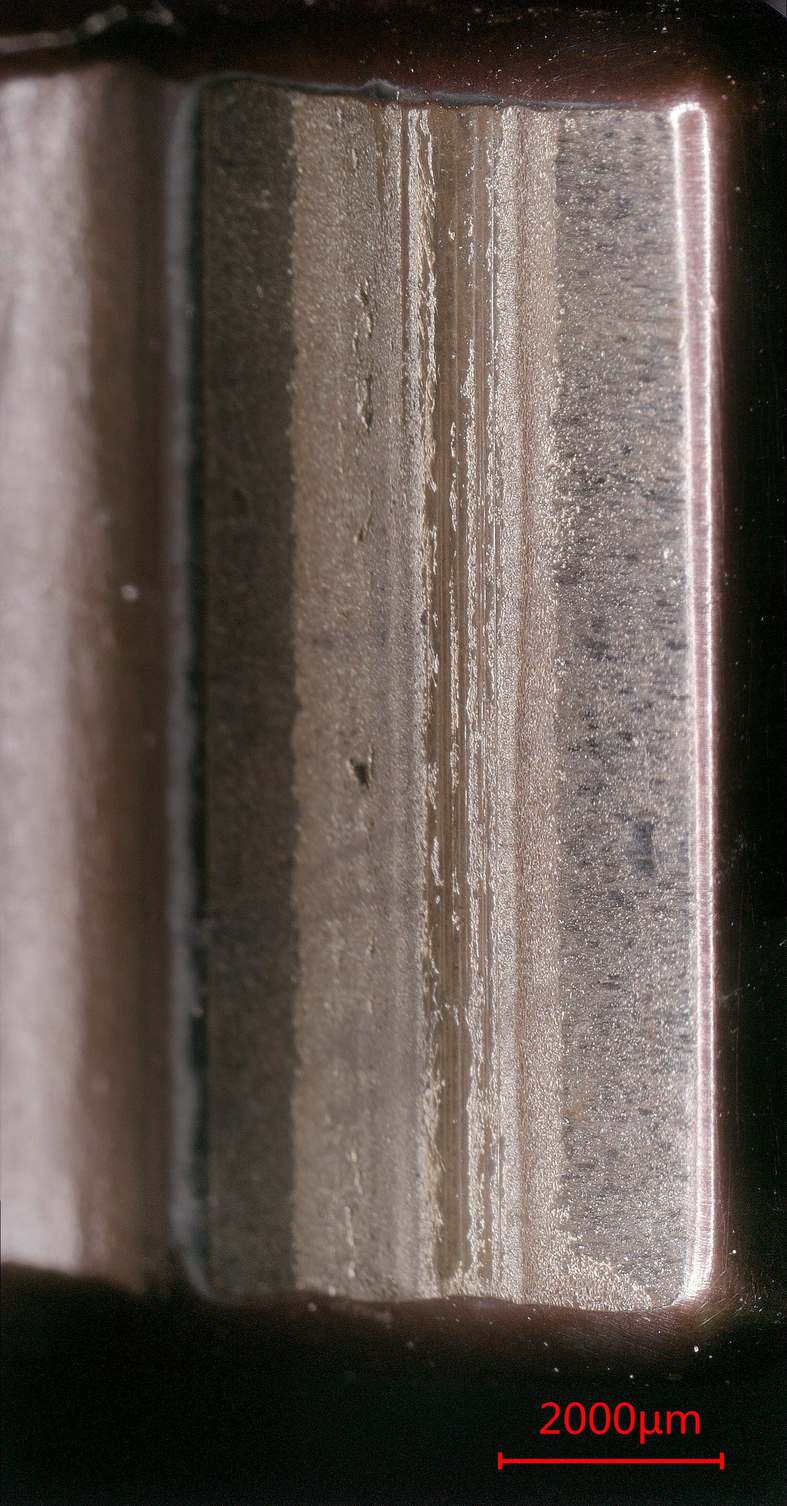Abrasion: (192, 110, 703, 1304)
